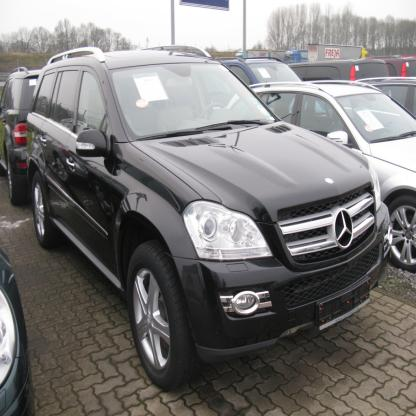Car: (1, 45, 416, 416)
